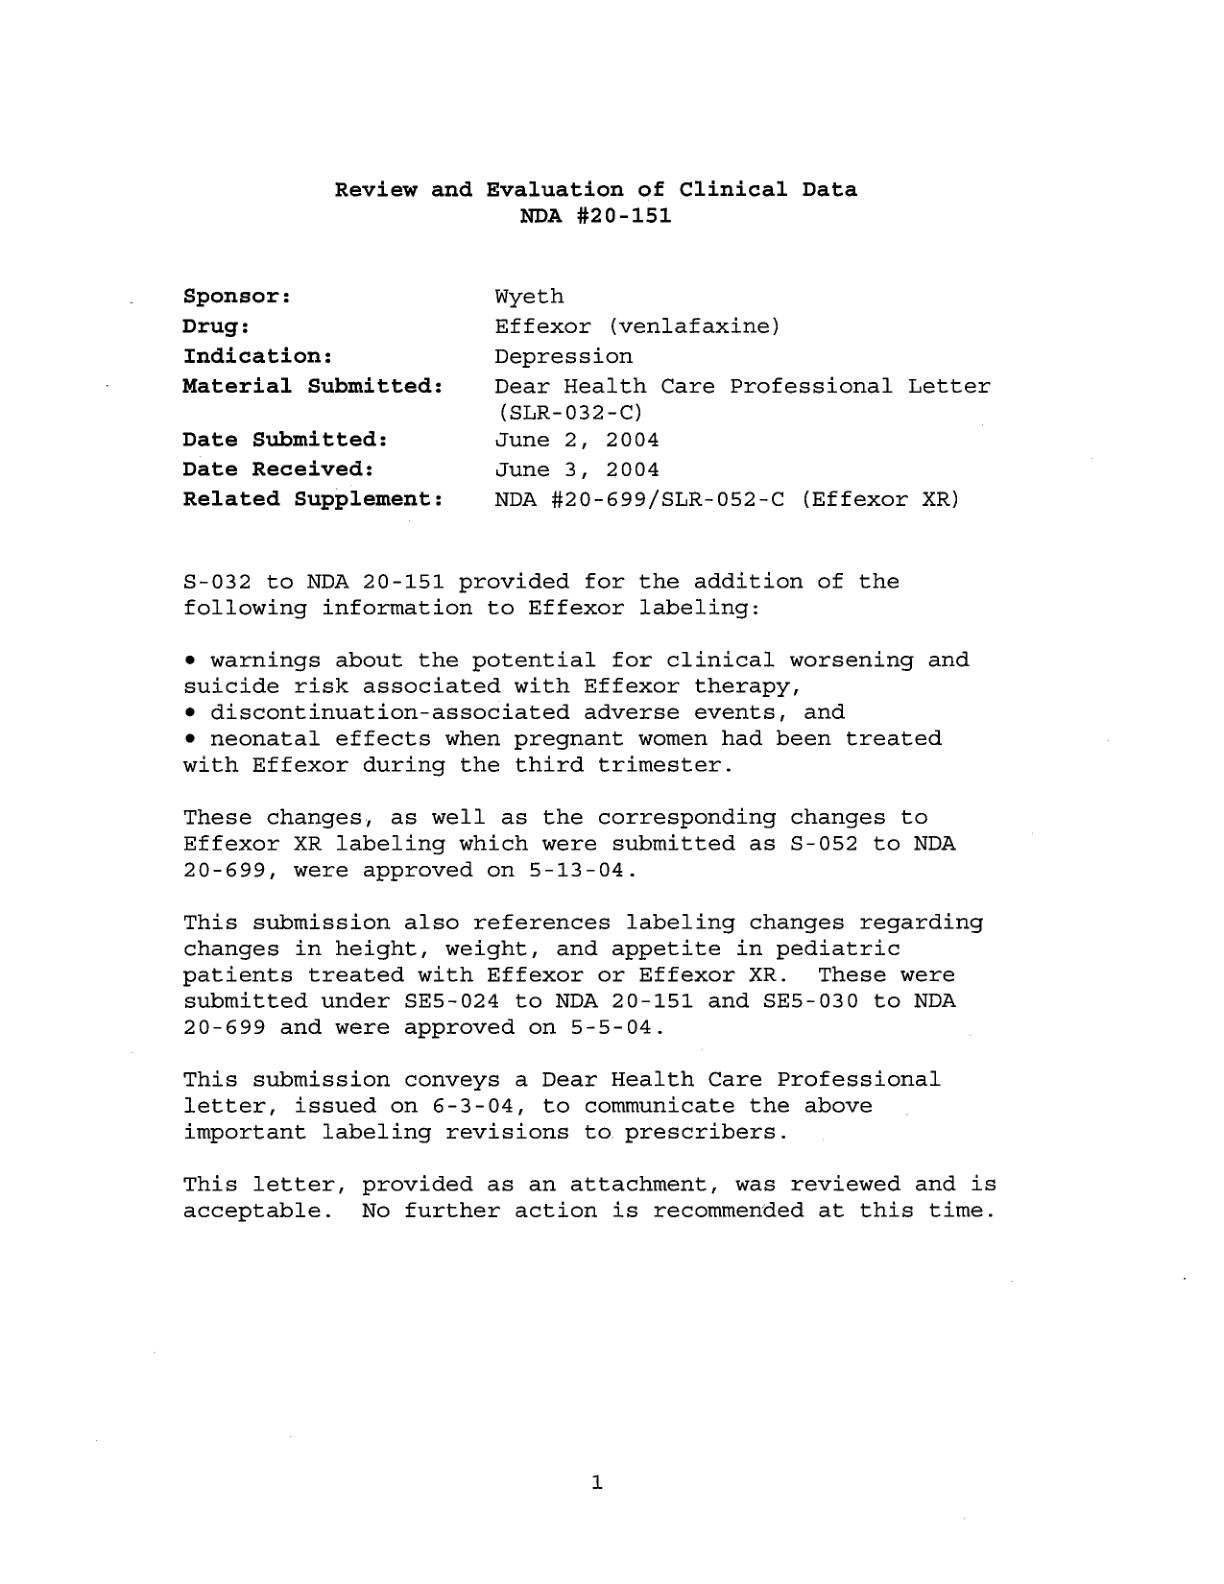nolines: (180, 285, 993, 510)
